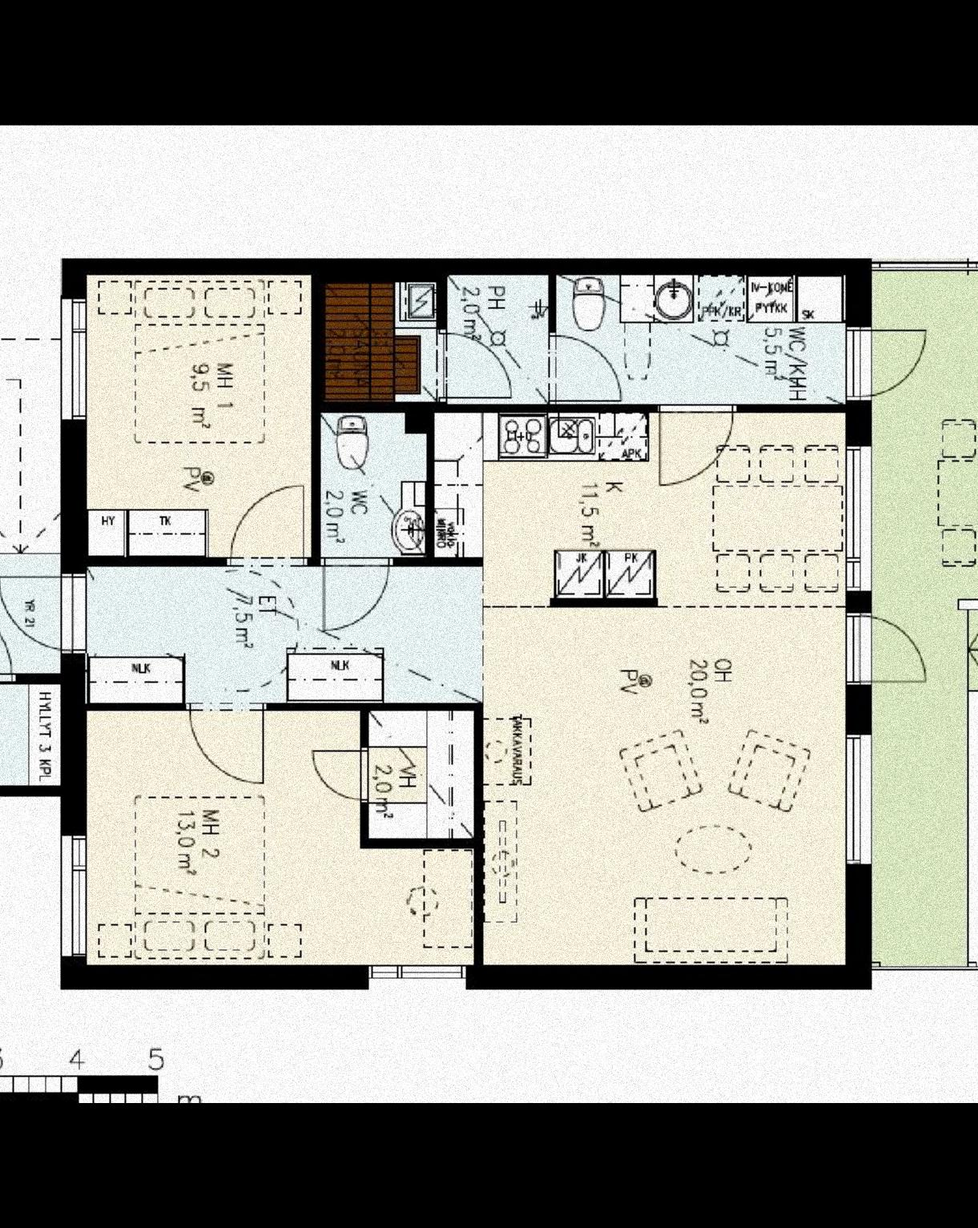door: (189, 697, 266, 793), (652, 397, 732, 488), (1, 568, 87, 648), (851, 606, 931, 689), (847, 325, 932, 403), (225, 485, 304, 567), (317, 561, 392, 639), (440, 322, 512, 401), (554, 333, 625, 403), (311, 744, 372, 803)
window: (844, 444, 874, 588), (62, 834, 95, 950), (837, 735, 866, 860), (60, 299, 87, 419), (364, 962, 469, 991)
zone: (481, 415, 849, 965), (91, 699, 469, 961), (871, 270, 978, 974), (89, 277, 309, 554), (89, 561, 481, 701), (557, 272, 847, 401), (324, 273, 547, 401), (323, 416, 481, 551), (372, 707, 475, 843), (0, 551, 56, 666), (0, 684, 56, 783)
